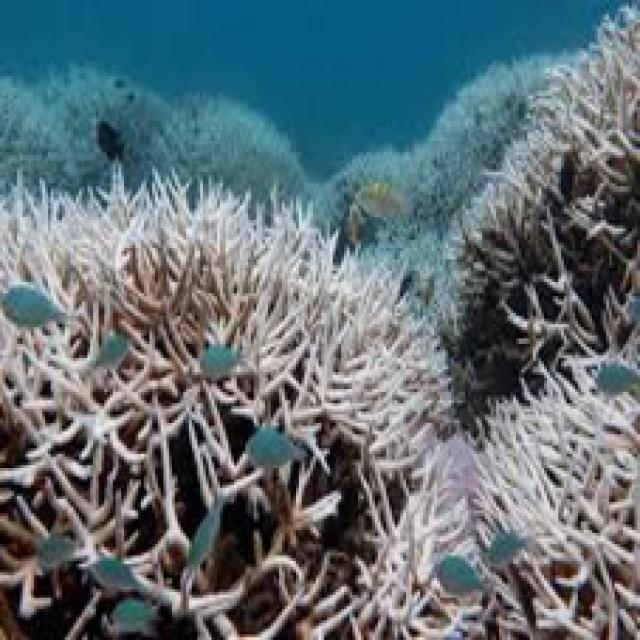Bleached: (1, 159, 457, 640), (364, 352, 640, 640), (318, 45, 584, 334), (449, 1, 640, 399), (1, 64, 319, 223)
